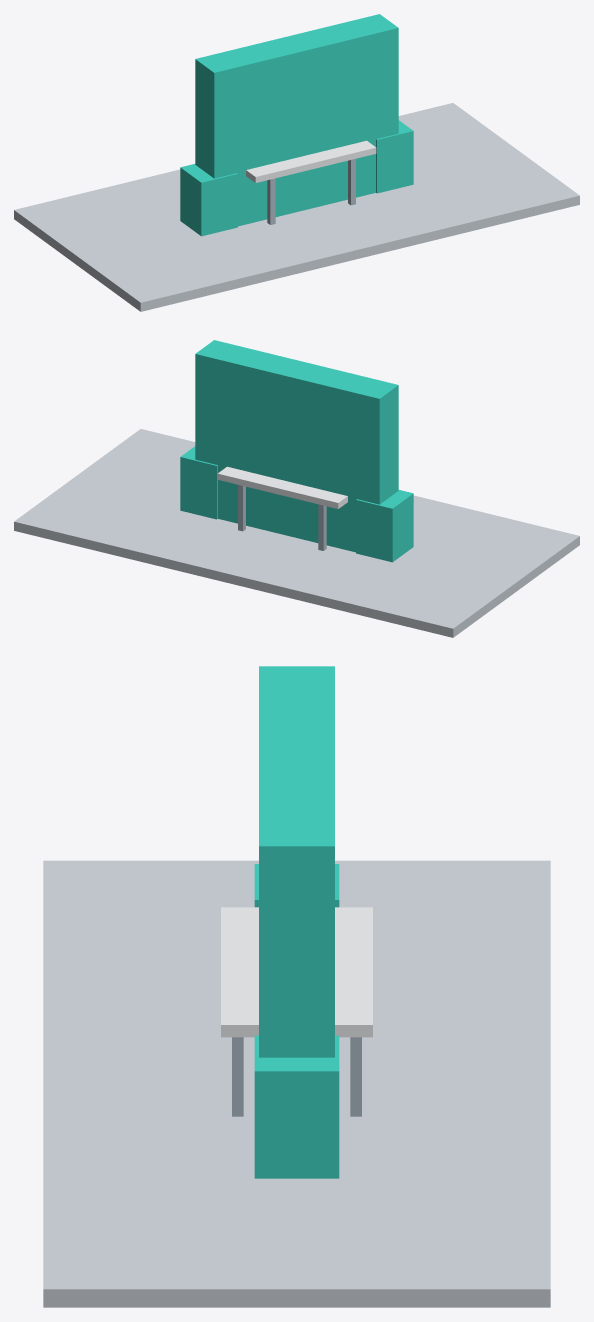
The picture shows the model from 3 angles, top to bottom: view 1: azimuth 30°, elevation 25°; view 2: azimuth 150°, elevation 25°; view 3: azimuth 270°, elevation 25°; orthographic projection. The views are drawn at different scales.
Parts seen in each view (by area): view 1: Exhibition Booth Concept; view 2: Exhibition Booth Concept; view 3: Exhibition Booth Concept.
Part boxes in pixels (x1,y1,x2,y2): Exhibition Booth Concept: [14, 14, 579, 311]; Exhibition Booth Concept: [14, 340, 579, 637]; Exhibition Booth Concept: [43, 666, 550, 1307].
Size of the model in its own units: 6 by 2.2 by 3.
